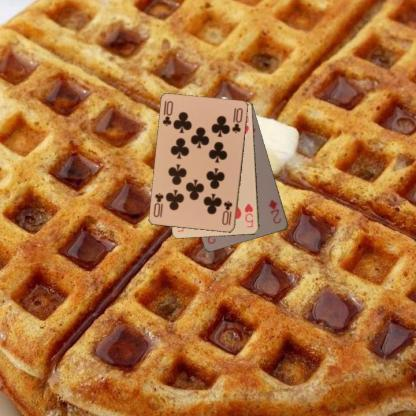10c: (219, 198, 234, 227), (160, 98, 175, 127)
2d: (266, 196, 283, 226)
5h: (243, 201, 254, 229)
